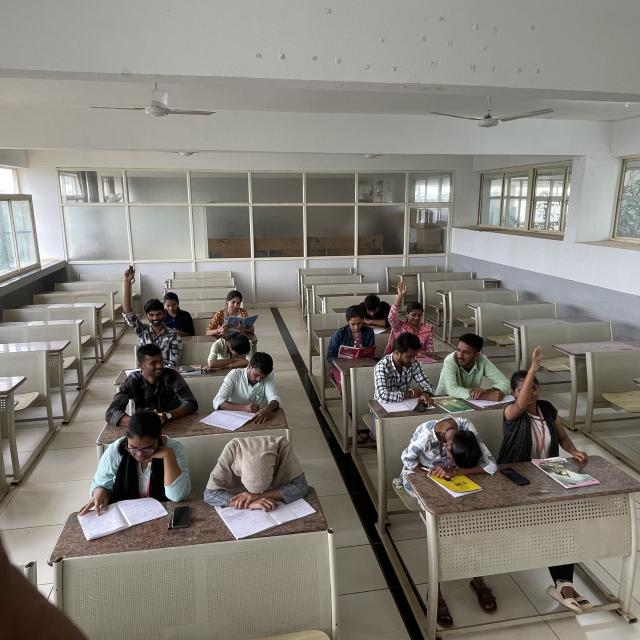Hand Rising: (503, 345, 588, 480), (119, 266, 180, 360), (388, 278, 435, 344)
Reading: (86, 410, 192, 528), (330, 304, 380, 362), (208, 290, 260, 338)
Sleeping: (202, 433, 317, 524), (400, 414, 502, 488), (200, 331, 250, 375)
Using Phone: (374, 332, 437, 417), (161, 291, 197, 338)
Writing: (208, 352, 285, 426)
